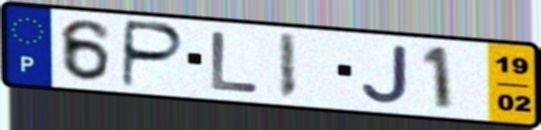1: (420, 44, 456, 112)
6: (56, 17, 113, 84)
I: (276, 31, 299, 102)
J: (358, 42, 412, 106)
L: (209, 29, 264, 95)
P: (118, 18, 189, 90)
